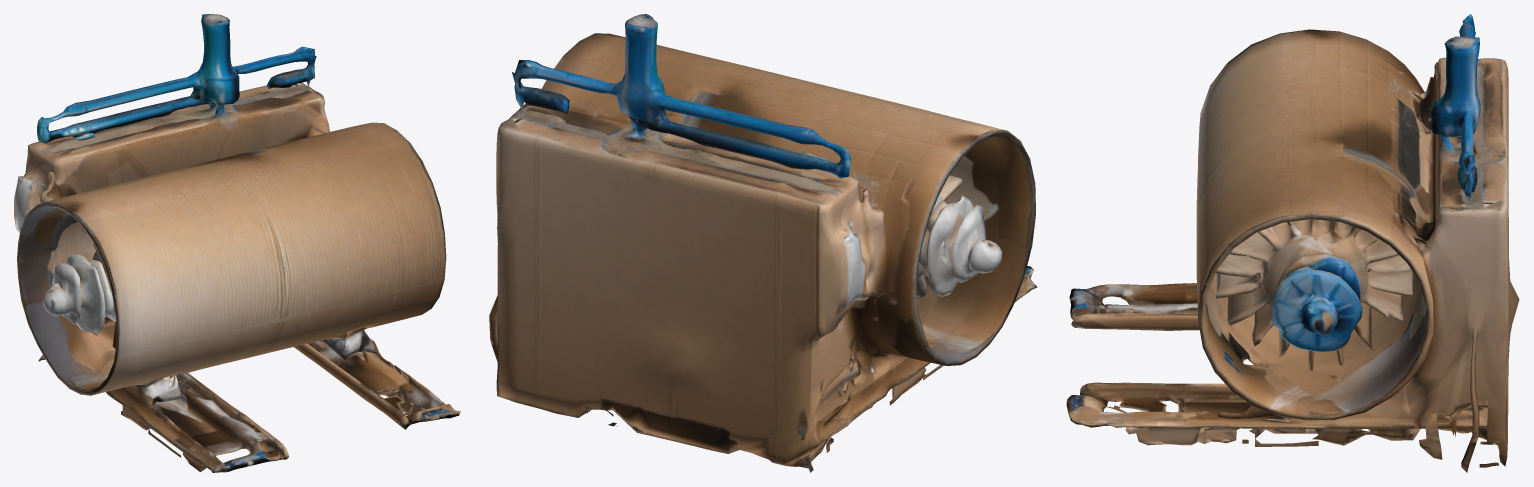
File: filtering_pulping_of__1226145505_texture.fbx
3 views of the same model, side by side, from view 1: azimuth 30°, elevation 25°; view 2: azimuth 150°, elevation 25°; view 3: azimuth 270°, elevation 25° (orthographic). The views are drawn at different scales.
Parts seen in each view (by area): view 1: Mesh1_Mesh1.018; view 2: Mesh1_Mesh1.018; view 3: Mesh1_Mesh1.018.
Boxes of the visible parts, x1=… form: Mesh1_Mesh1.018: x1=14, y1=14, x2=460, y2=472; Mesh1_Mesh1.018: x1=489, y1=14, x2=1037, y2=472; Mesh1_Mesh1.018: x1=1066, y1=14, x2=1519, y2=472.
Bounding box in the file's own units: 197 × 169 × 187.
Materials: 1 (1 with a texture image).
